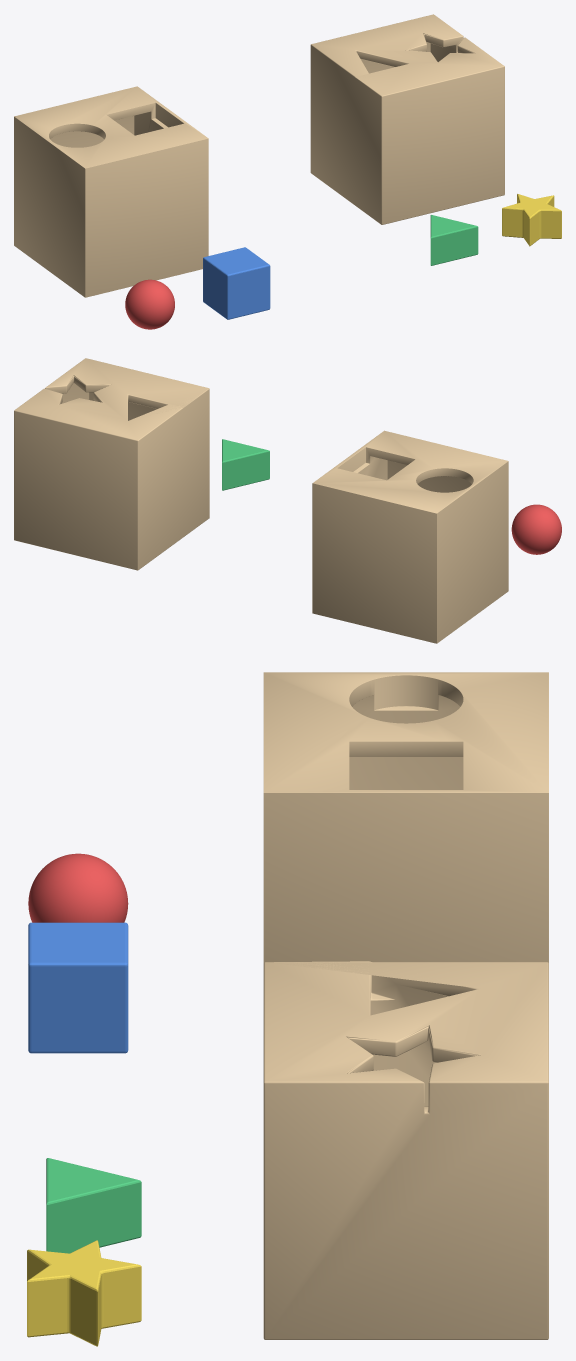
Rendered from CUBO_CLASICADOR.fbx.
3 renders of one model, top to bottom at view 1: azimuth 30°, elevation 25°; view 2: azimuth 150°, elevation 25°; view 3: azimuth 270°, elevation 25°, orthographic. The views are drawn at different scales.
Parts seen in each view (by area): view 1: Caja_Cubo_Esfera, Caja_Triangulo_Estrella, Pieza_Cubo, Pieza_Estrella, Pieza_Esfera, Pieza_Triangulo; view 2: Caja_Cubo_Esfera, Caja_Triangulo_Estrella, Pieza_Esfera, Pieza_Triangulo; view 3: Caja_Triangulo_Estrella, Caja_Cubo_Esfera, Pieza_Cubo, Pieza_Estrella, Pieza_Triangulo, Pieza_Esfera.
Boxes of the visible parts, x1,y1,x2,y2 form: Caja_Cubo_Esfera: [14, 86, 208, 297]; Caja_Triangulo_Estrella: [310, 14, 504, 224]; Pieza_Cubo: [203, 247, 270, 319]; Pieza_Estrella: [502, 194, 561, 246]; Pieza_Esfera: [125, 279, 174, 329]; Pieza_Triangulo: [430, 215, 478, 265]; Caja_Cubo_Esfera: [312, 430, 508, 643]; Caja_Triangulo_Estrella: [14, 358, 209, 570]; Pieza_Esfera: [511, 504, 561, 554]; Pieza_Triangulo: [222, 439, 269, 490]; Caja_Triangulo_Estrella: [263, 961, 548, 1339]; Caja_Cubo_Esfera: [263, 672, 548, 962]; Pieza_Cubo: [28, 922, 128, 1053]; Pieza_Estrella: [27, 1240, 141, 1346]; Pieza_Triangulo: [46, 1158, 141, 1253]; Pieza_Esfera: [28, 853, 128, 922].
Size of the model in its own units: 697 by 200 by 366.
